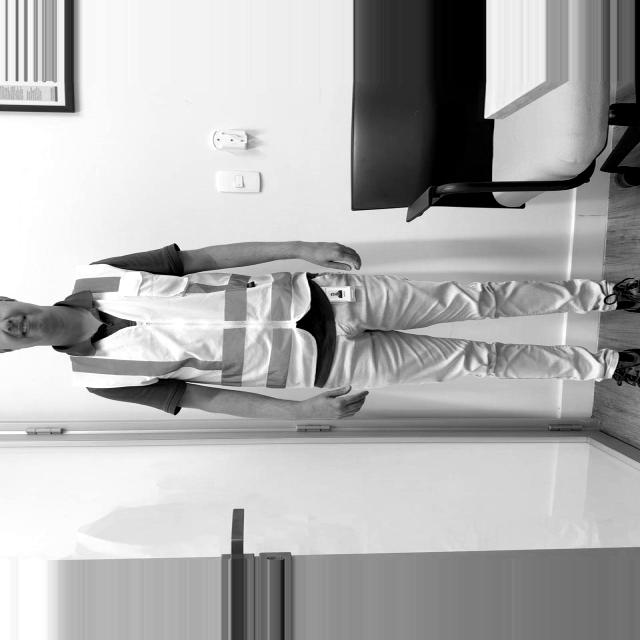Vest: (79, 269, 317, 387)
